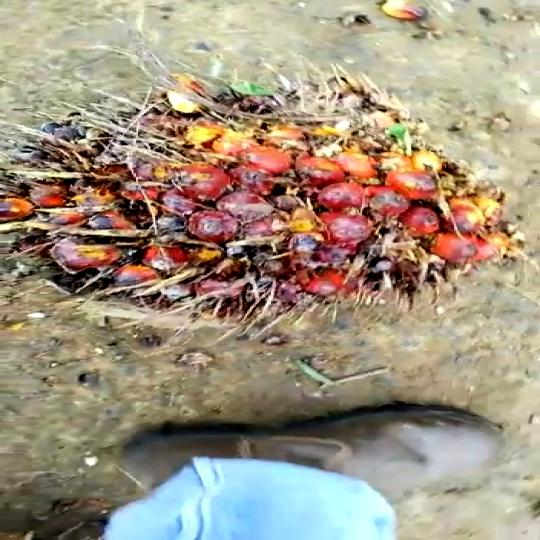masak: (0, 74, 534, 352)
